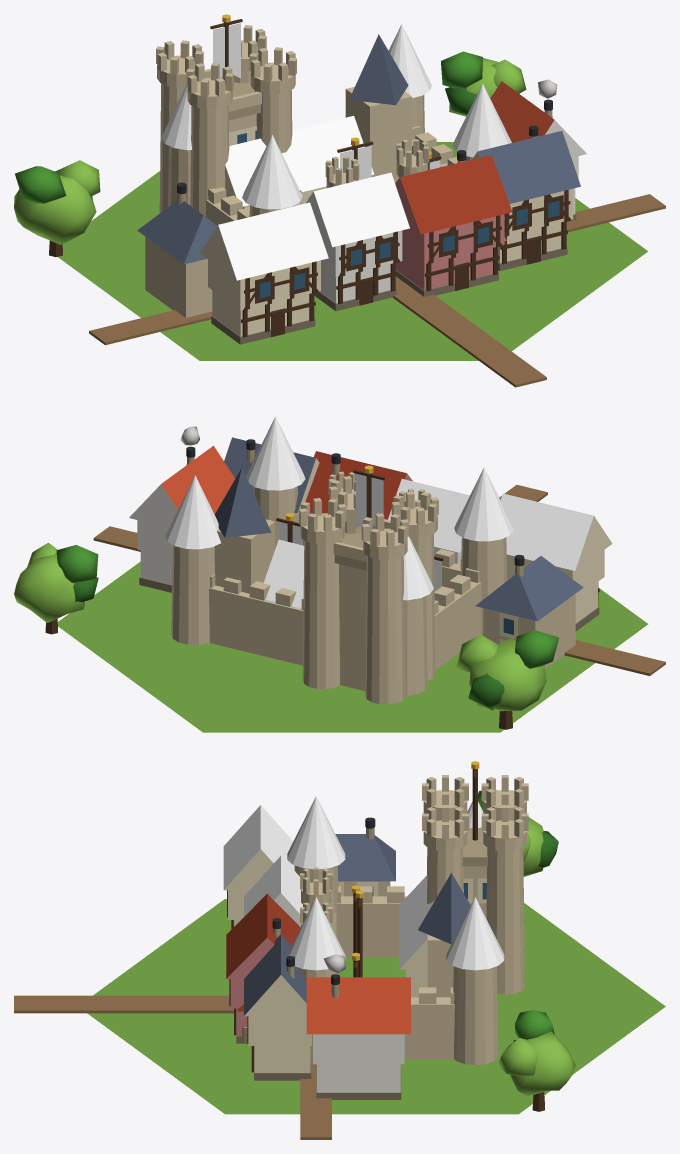
Rendered from capital_1_2.fbx.
3 views of the same model, one above another, from view 1: azimuth 30°, elevation 25°; view 2: azimuth 150°, elevation 25°; view 3: azimuth 270°, elevation 25° (orthographic).
Parts seen in each view (by area): view 1: capital_1_2; view 2: capital_1_2; view 3: capital_1_2.
Part boxes in pixels (x1,y1,x2,y2): capital_1_2: (14, 14, 665, 387); capital_1_2: (14, 416, 665, 732); capital_1_2: (14, 761, 665, 1139).
Size of the model in its own units: 227 by 82.67 by 233.
